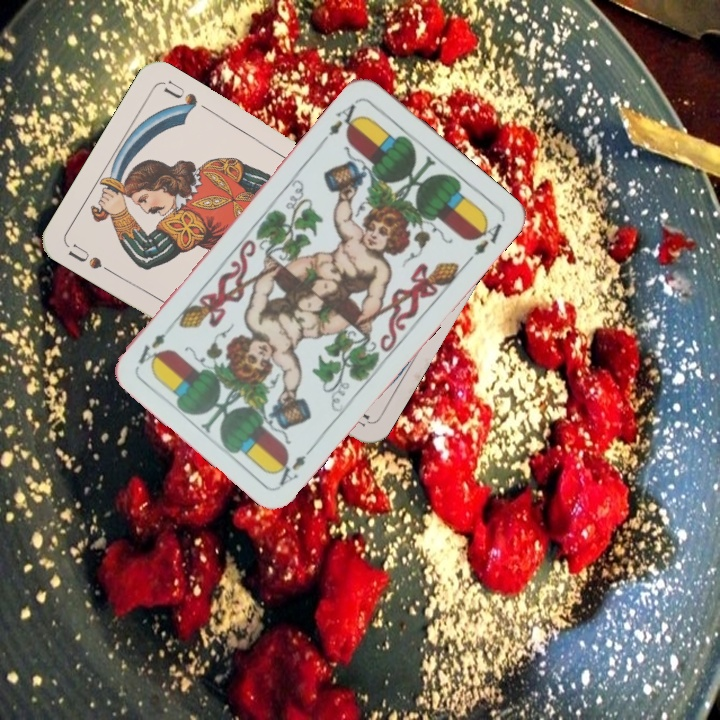EA: (317, 96, 364, 146), (270, 440, 318, 488)
SU: (63, 239, 117, 277)
